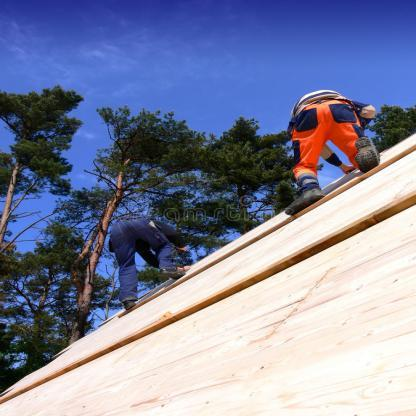bota: (283, 178, 327, 216), (351, 132, 383, 174), (156, 262, 191, 280), (119, 292, 140, 312)
